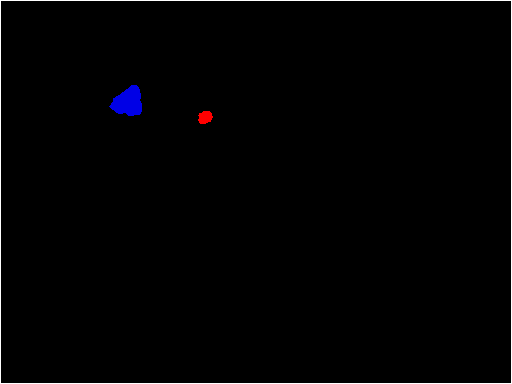chipped: (116, 90, 137, 111)
detached: (198, 109, 211, 123)
